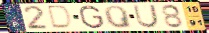2: (23, 5, 50, 30)
8: (161, 4, 184, 29)
D: (48, 5, 74, 30)
G: (78, 5, 106, 29)
Q: (103, 5, 134, 29)
U: (133, 4, 161, 29)
